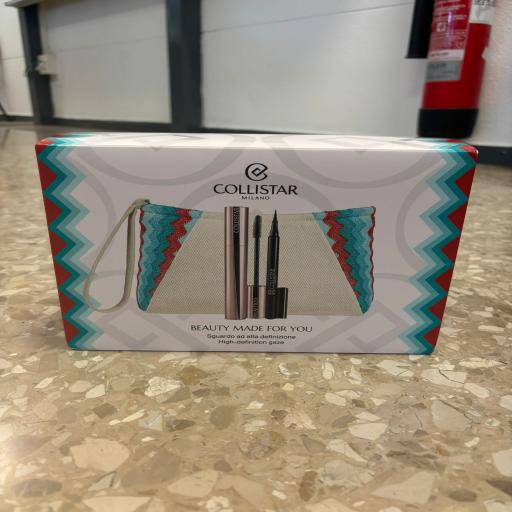caja_1: (36, 133, 476, 353)
